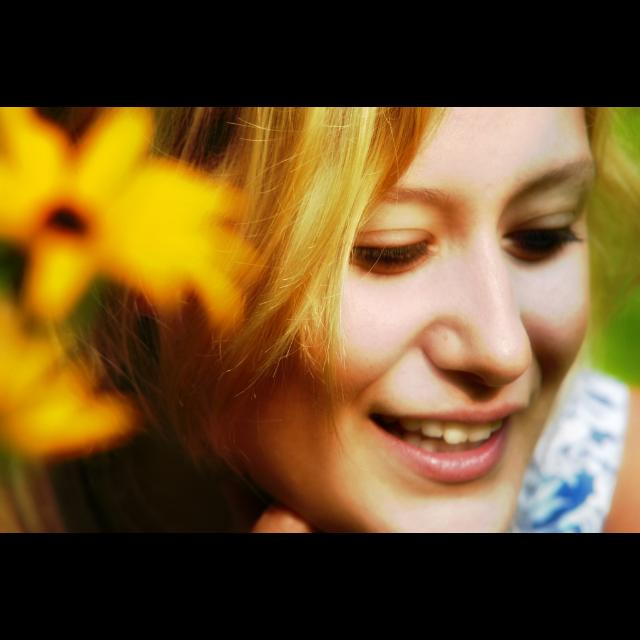Flower: (0, 107, 256, 323)
